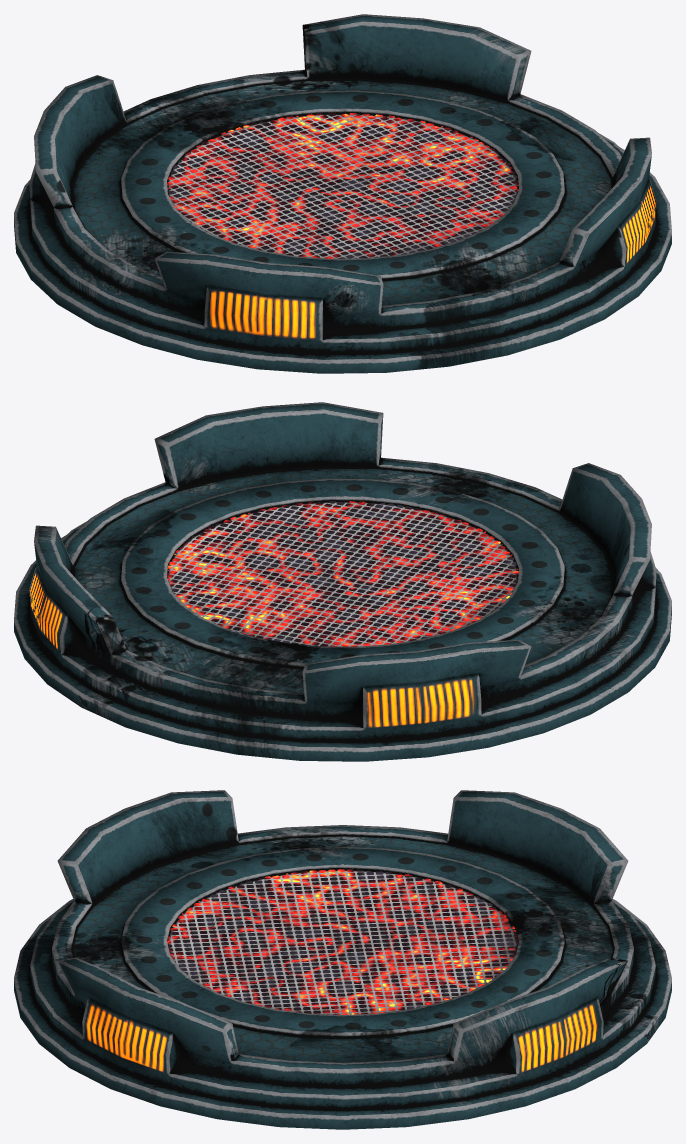
Rendered from item_span_model_asset.glb.
3 renders of one model, top to bottom at view 1: azimuth 30°, elevation 25°; view 2: azimuth 150°, elevation 25°; view 3: azimuth 270°, elevation 25°, orthographic.
Parts seen in each view (by area): view 1: Circle; view 2: Circle; view 3: Circle.
Part boxes in pixels (left/top/right/bottom): Circle: left=14, top=14, right=671, bottom=373; Circle: left=14, top=402, right=671, bottom=761; Circle: left=14, top=790, right=671, bottom=1129.
Size of the model in its own units: 200 by 30.11 by 200.
2 materials, 2 textured.
